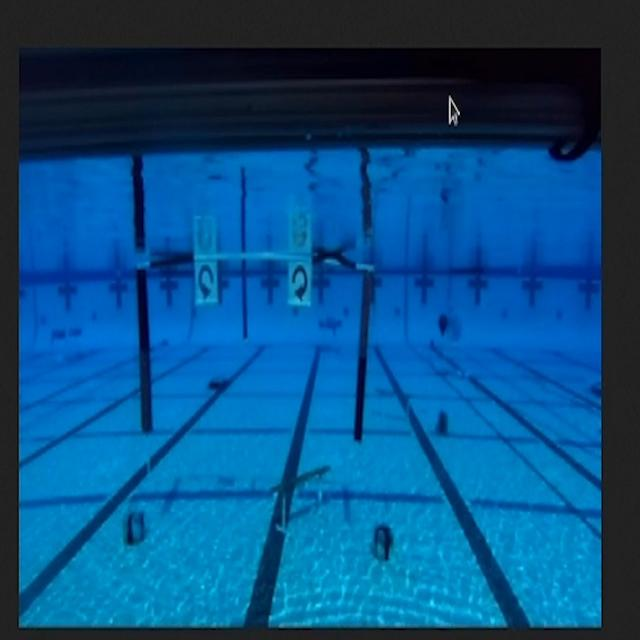Gate: (113, 240, 387, 466)
Path: (260, 448, 340, 530)
